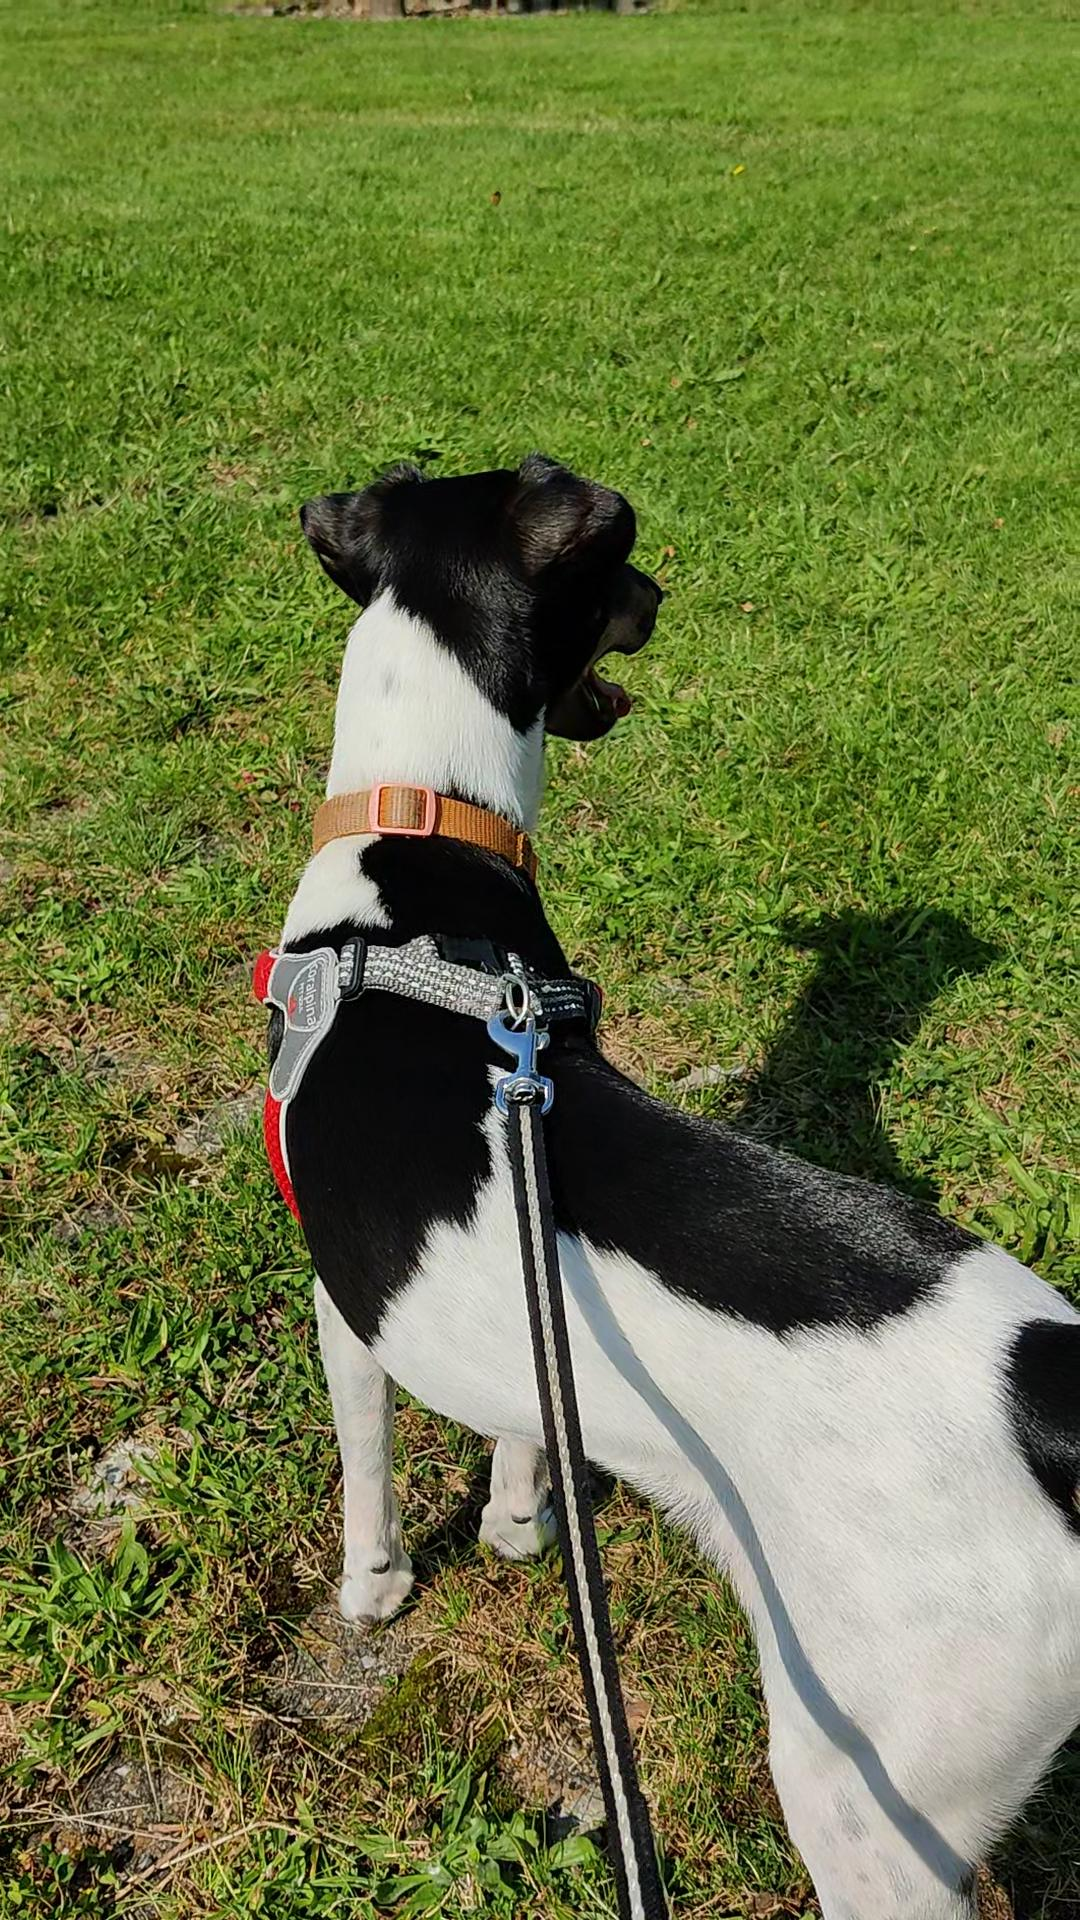Dog: (244, 443, 1079, 1919)
